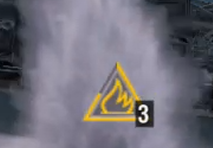3fire: (80, 87, 155, 130)
